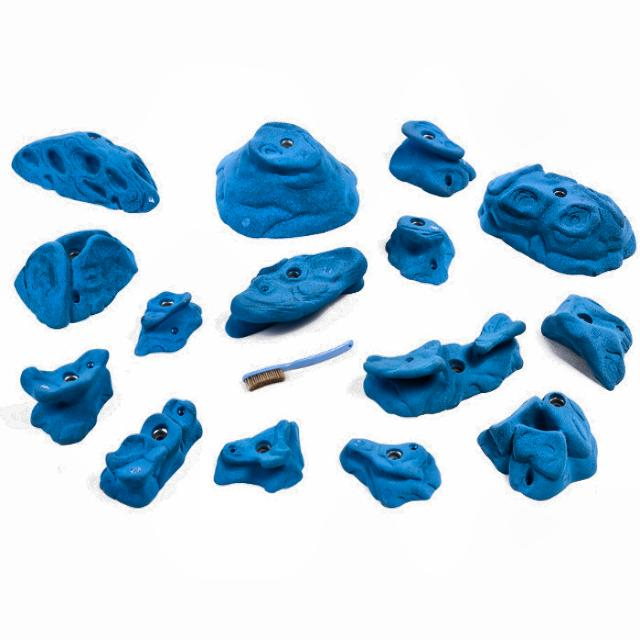Hold: (225, 108, 361, 236), (363, 310, 530, 411), (484, 166, 638, 272), (4, 122, 154, 216), (482, 389, 602, 505), (221, 252, 371, 342), (13, 229, 141, 331), (96, 397, 202, 508), (17, 349, 114, 452), (540, 292, 630, 387), (386, 102, 468, 204), (338, 440, 443, 507), (212, 422, 300, 492), (138, 287, 206, 357), (389, 215, 455, 282)
